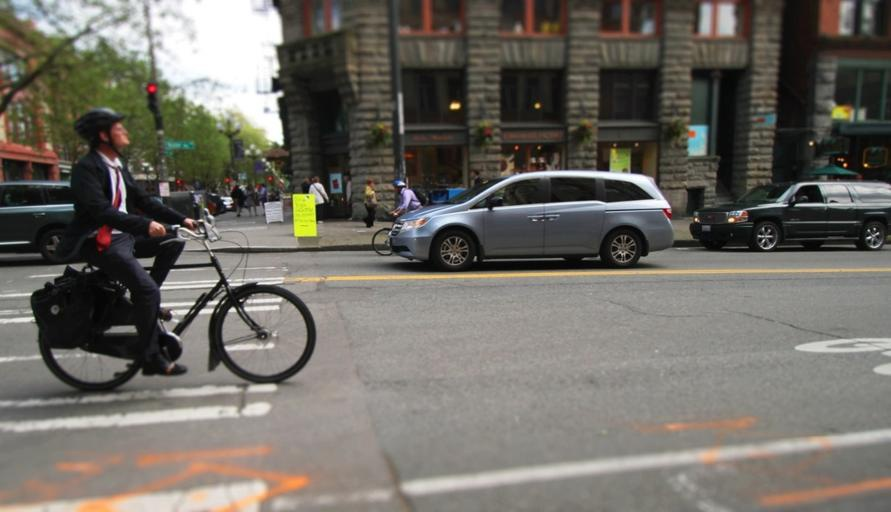non-vehicle: (36, 206, 315, 392), (371, 211, 399, 256)
